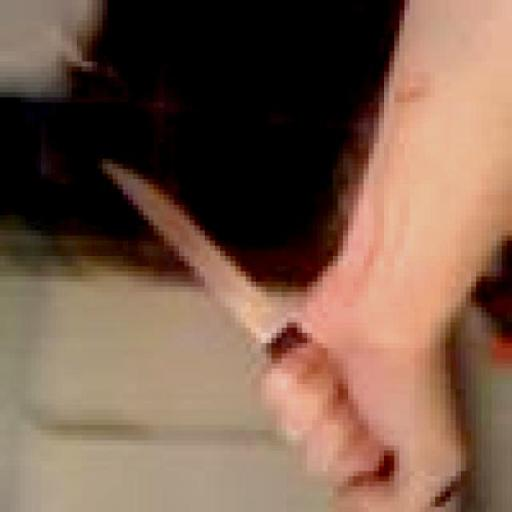knife: (87, 148, 471, 502)
